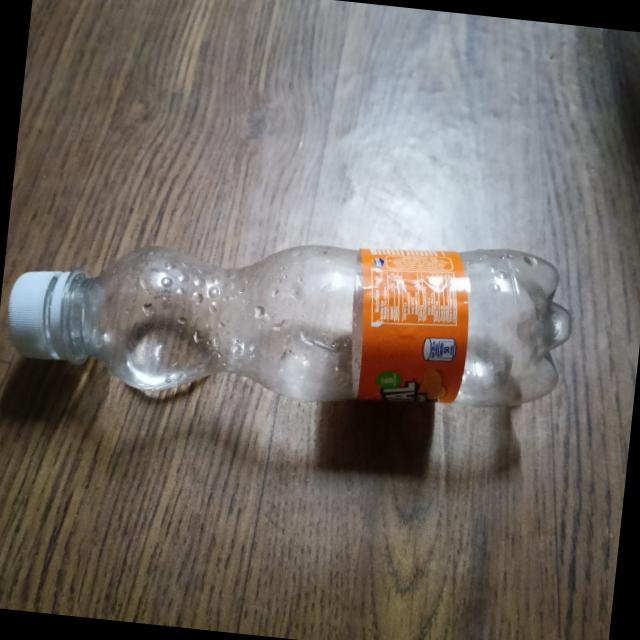Bottle: (5, 245, 571, 409)
